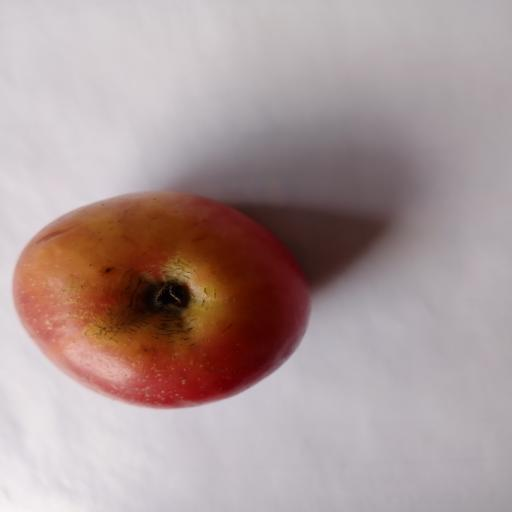apple-ripe: (0, 188, 351, 414)
